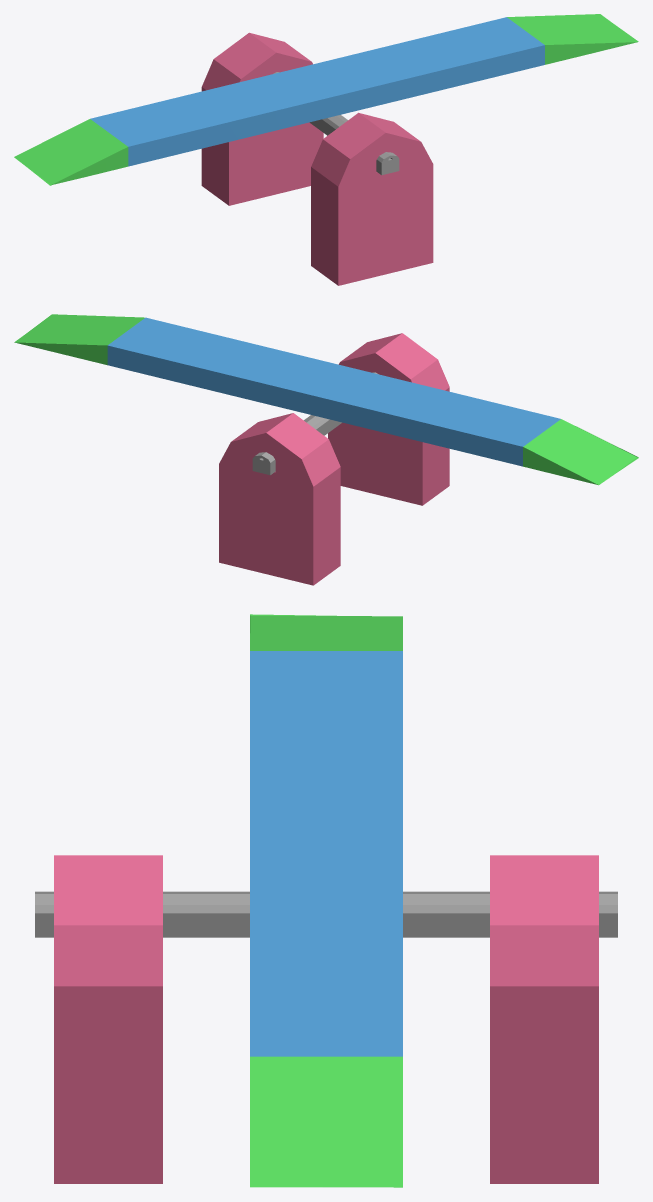
The model's file is seesaw.fbx.
The picture shows the model from 3 angles, top to bottom: view 1: azimuth 30°, elevation 25°; view 2: azimuth 150°, elevation 25°; view 3: azimuth 270°, elevation 25°; orthographic projection. The views are drawn at different scales.
Visible parts, largest first — view 1: Cube.006, Cube.002; view 2: Cube.006, Cube.002; view 3: Cube.006, Cube.002.
Boxes of the visible parts, left/top/right/bottom form: Cube.006: left=14, top=14, right=638, bottom=185; Cube.002: left=201, top=32, right=433, bottom=285; Cube.006: left=14, top=314, right=638, bottom=485; Cube.002: left=219, top=333, right=449, bottom=585; Cube.006: left=250, top=614, right=402, bottom=1187; Cube.002: left=35, top=855, right=617, bottom=1183.
Size of the model in its own units: 1243 by 287 by 535.
